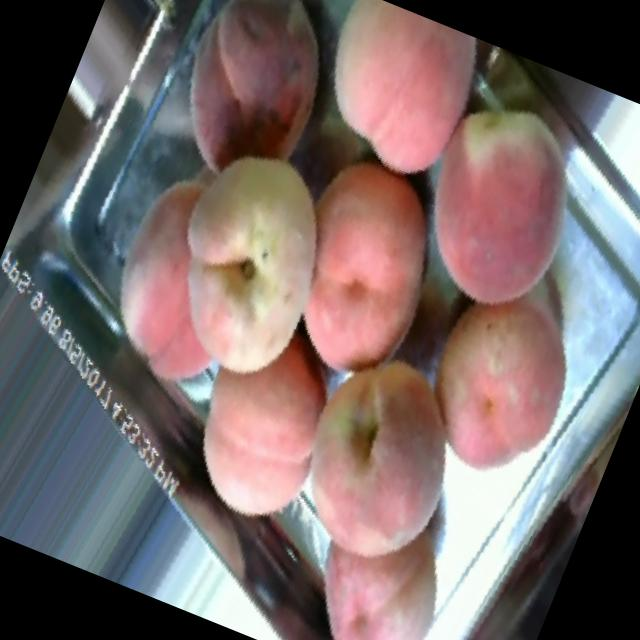Fruit: (112, 112, 370, 420), (250, 310, 514, 606), (236, 119, 494, 418), (385, 65, 634, 352), (371, 244, 624, 520), (147, 292, 372, 554), (119, 0, 378, 227), (263, 0, 503, 211), (266, 472, 493, 640)
